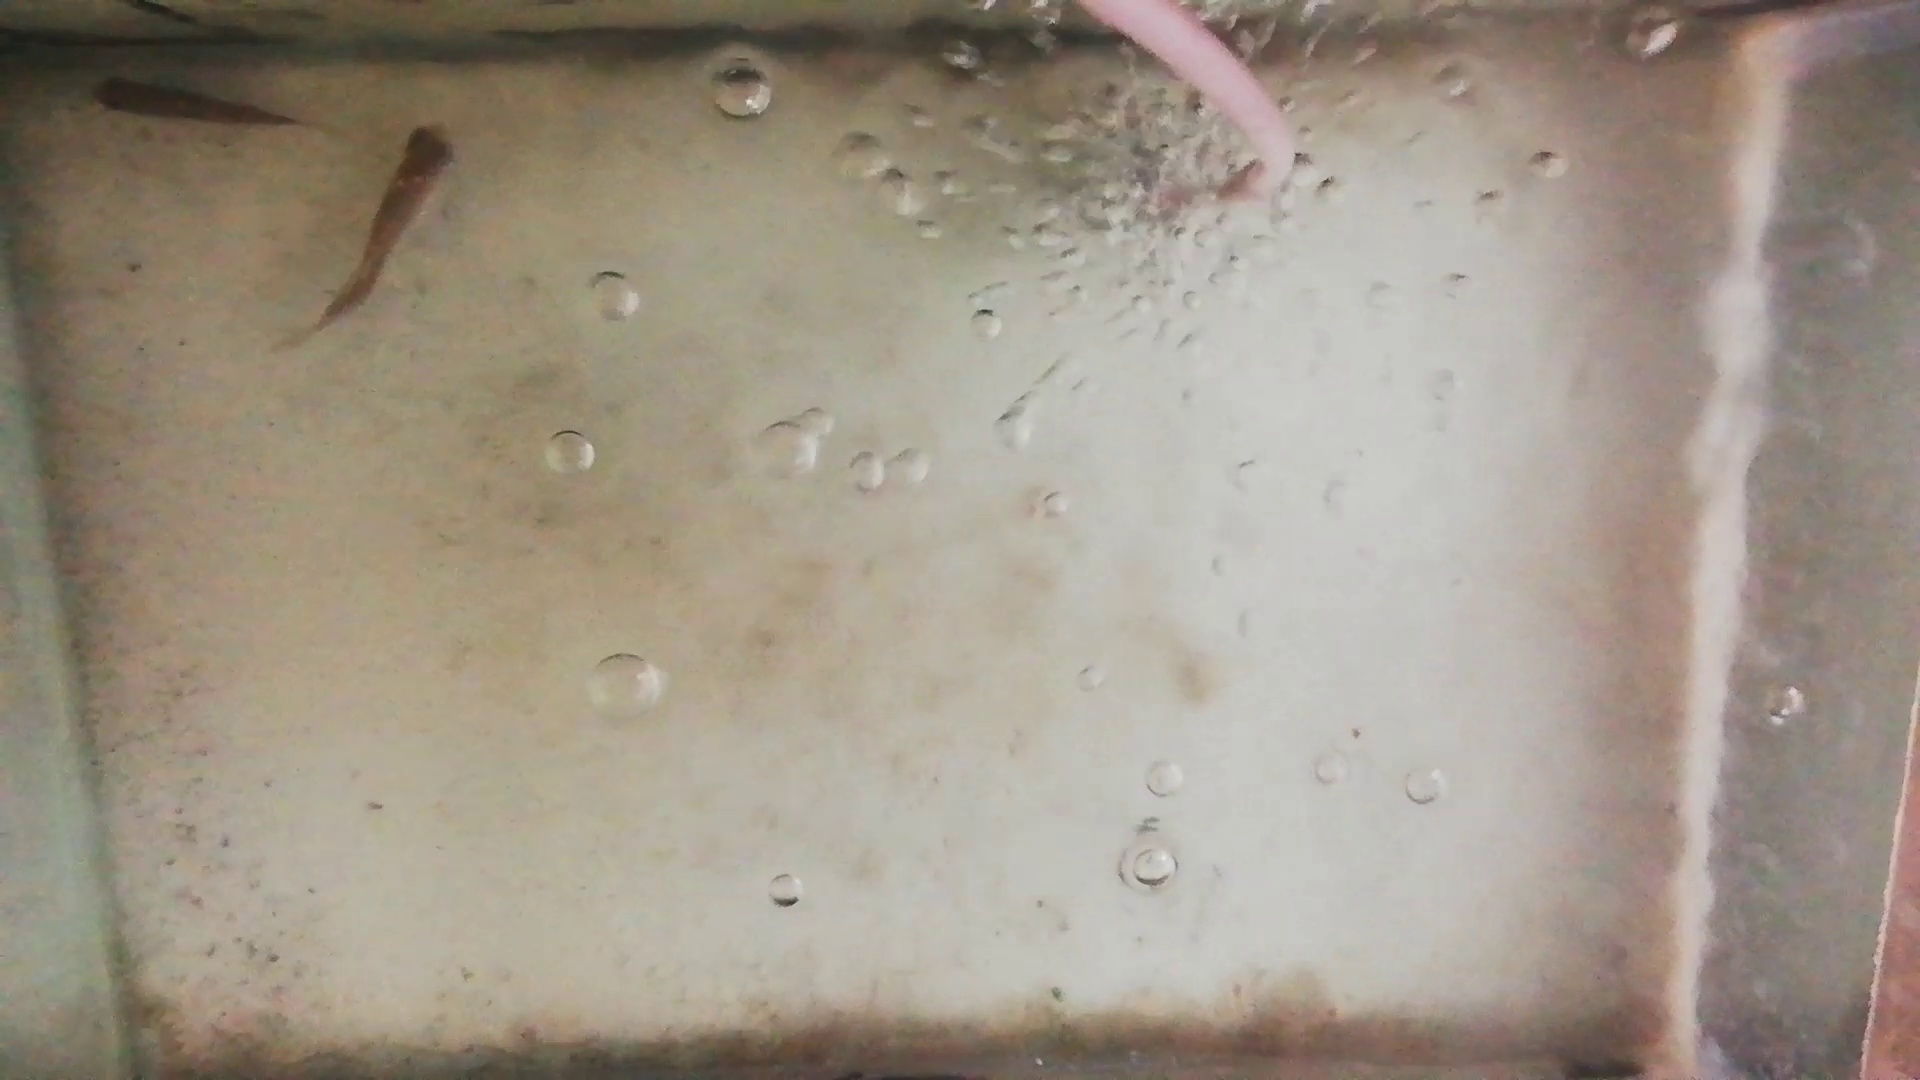fish: (316, 124, 455, 328), (84, 75, 295, 124)
